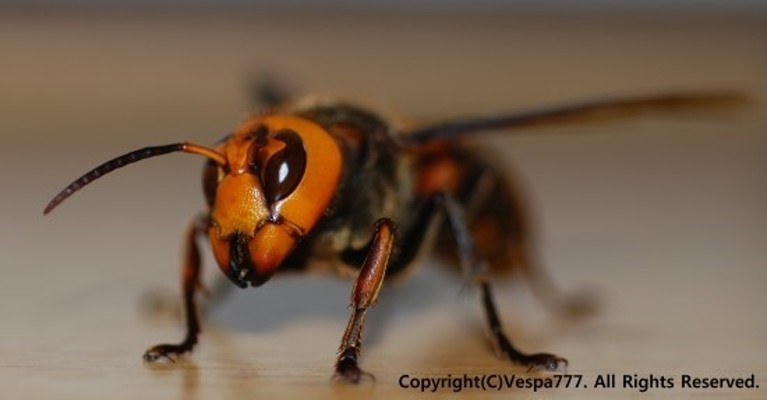asian_giant_hornet: (142, 99, 538, 371)
